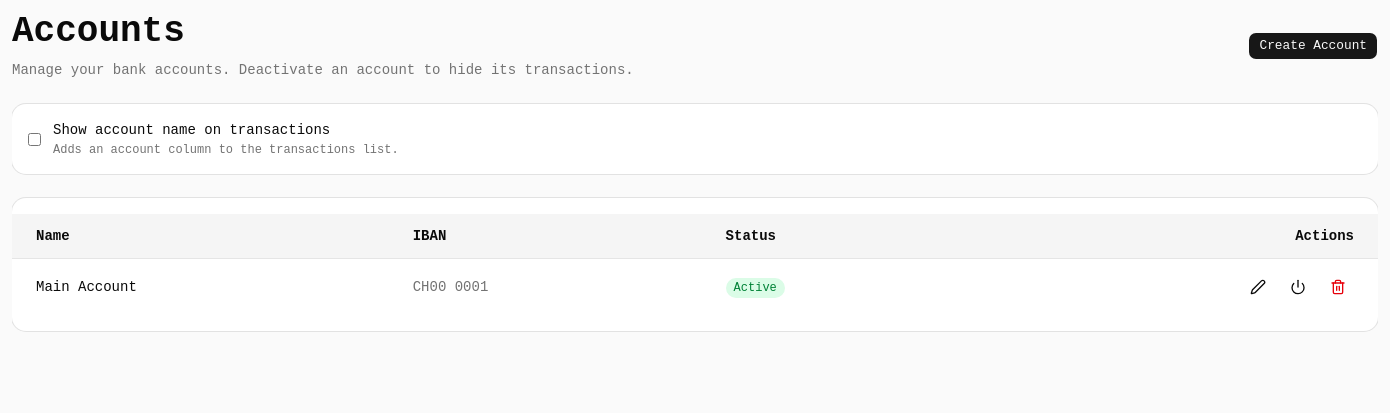
Test: SettingsAccounts › surfaces an error alert when toggling active state fails
Step 1. Click the button titled "Deactivate" → (1298, 287), box [1282,271,1314,303]
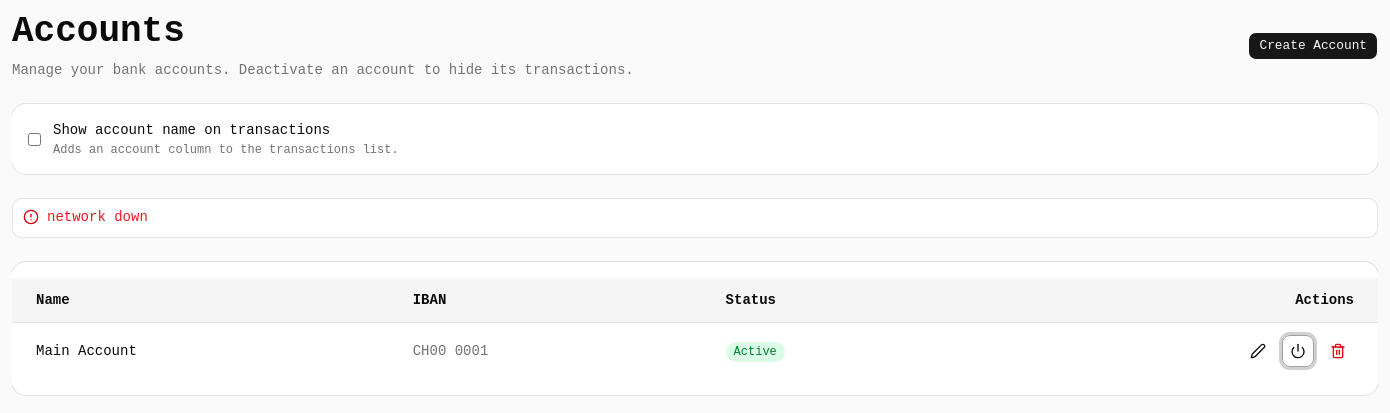
Now the text "network down" is shown, box [47,209,148,225]
